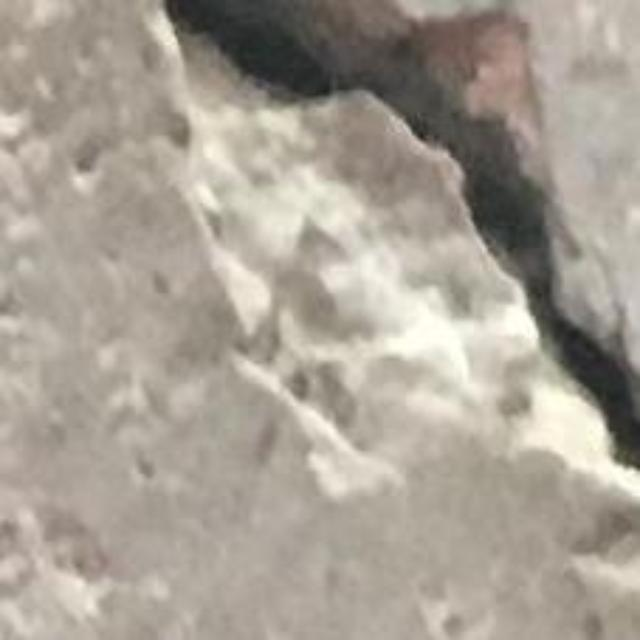crack: (158, 0, 639, 473)
